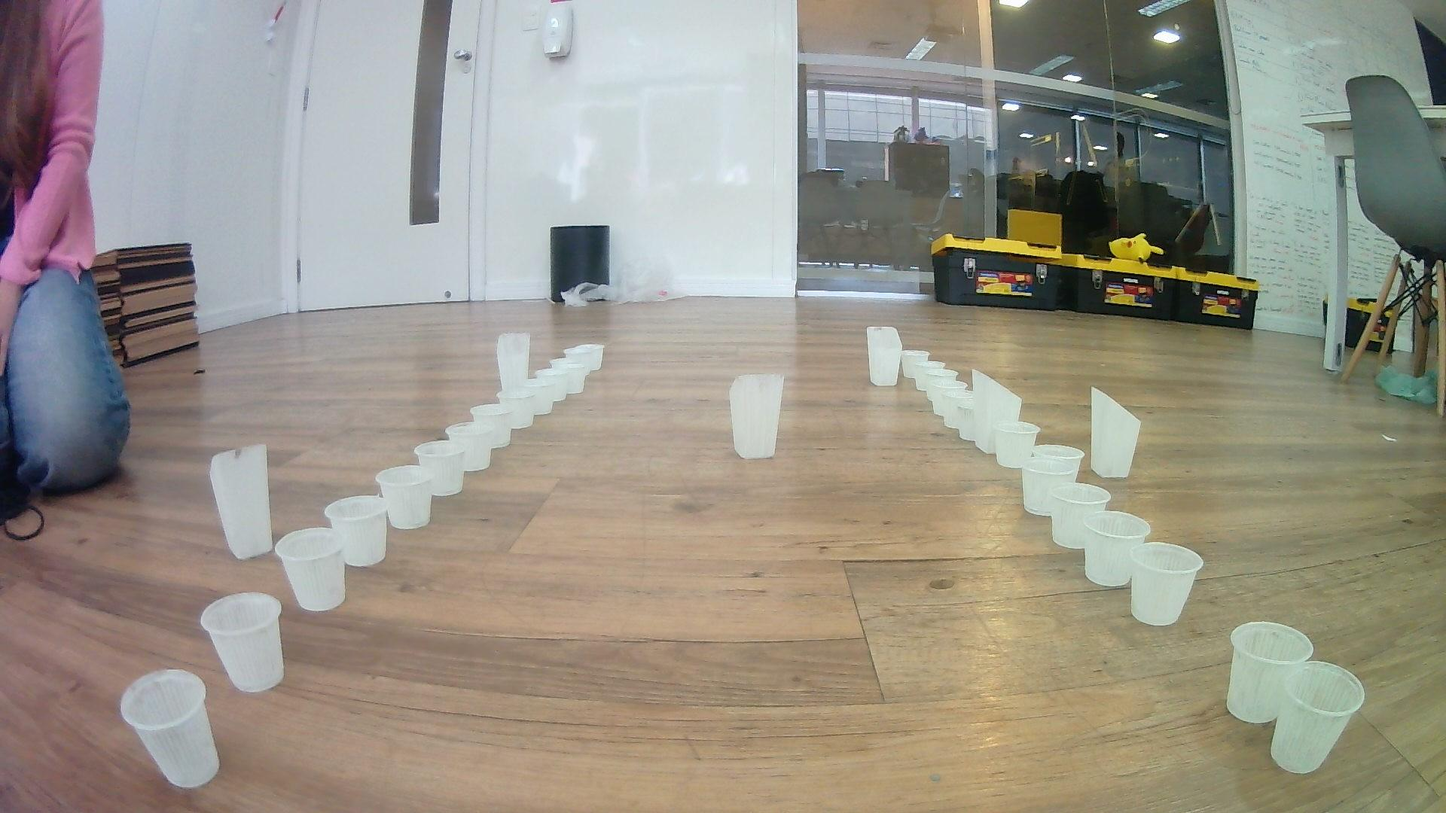erva_daninha: (209, 444, 275, 561), (1090, 386, 1142, 480), (729, 373, 784, 461), (972, 369, 1023, 454), (866, 326, 903, 387), (496, 332, 531, 394)
planta: (119, 669, 221, 790), (1270, 660, 1366, 775), (1226, 621, 1316, 724), (202, 592, 285, 693), (1127, 542, 1204, 627), (275, 528, 348, 612), (1083, 510, 1152, 588), (325, 495, 389, 568), (1021, 444, 1085, 516), (1048, 482, 1112, 550), (375, 465, 435, 530), (414, 440, 466, 497), (445, 422, 493, 473), (994, 421, 1042, 470), (470, 403, 512, 449), (496, 387, 535, 430), (519, 379, 555, 416), (941, 390, 974, 430), (551, 358, 587, 394), (563, 343, 605, 373), (931, 381, 966, 416), (536, 367, 569, 403), (926, 370, 958, 401), (915, 361, 946, 392), (899, 349, 929, 378), (959, 399, 978, 442)
